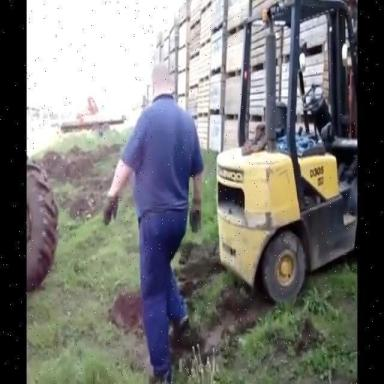forklift: (214, 0, 357, 308)
